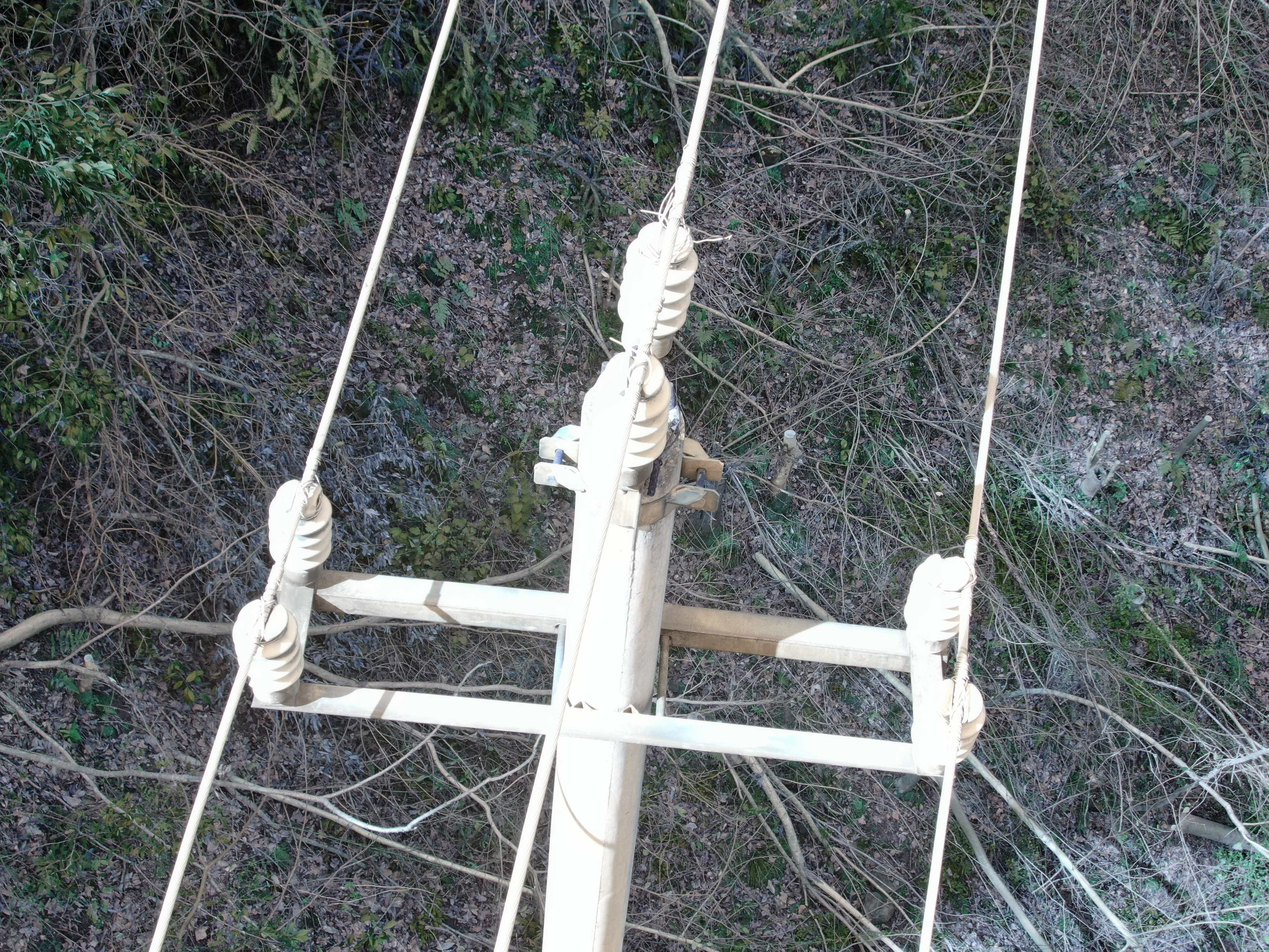severe_soiling_no_discharge_whole: (226, 596, 309, 707), (262, 475, 337, 587)
